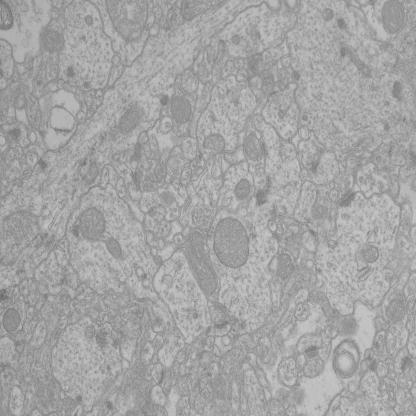mitochondria: (183, 230, 219, 298), (212, 216, 250, 269), (106, 0, 149, 46), (4, 210, 42, 252), (76, 206, 106, 244), (181, 1, 230, 24), (381, 0, 406, 36), (39, 26, 66, 56), (116, 108, 146, 135), (170, 96, 193, 126), (384, 296, 407, 324), (276, 252, 296, 282), (2, 307, 22, 336), (202, 133, 226, 155), (243, 133, 260, 162), (0, 1, 15, 31), (106, 237, 124, 261), (235, 178, 251, 201), (363, 244, 380, 265), (322, 7, 335, 23), (231, 34, 243, 46), (84, 14, 94, 26)
